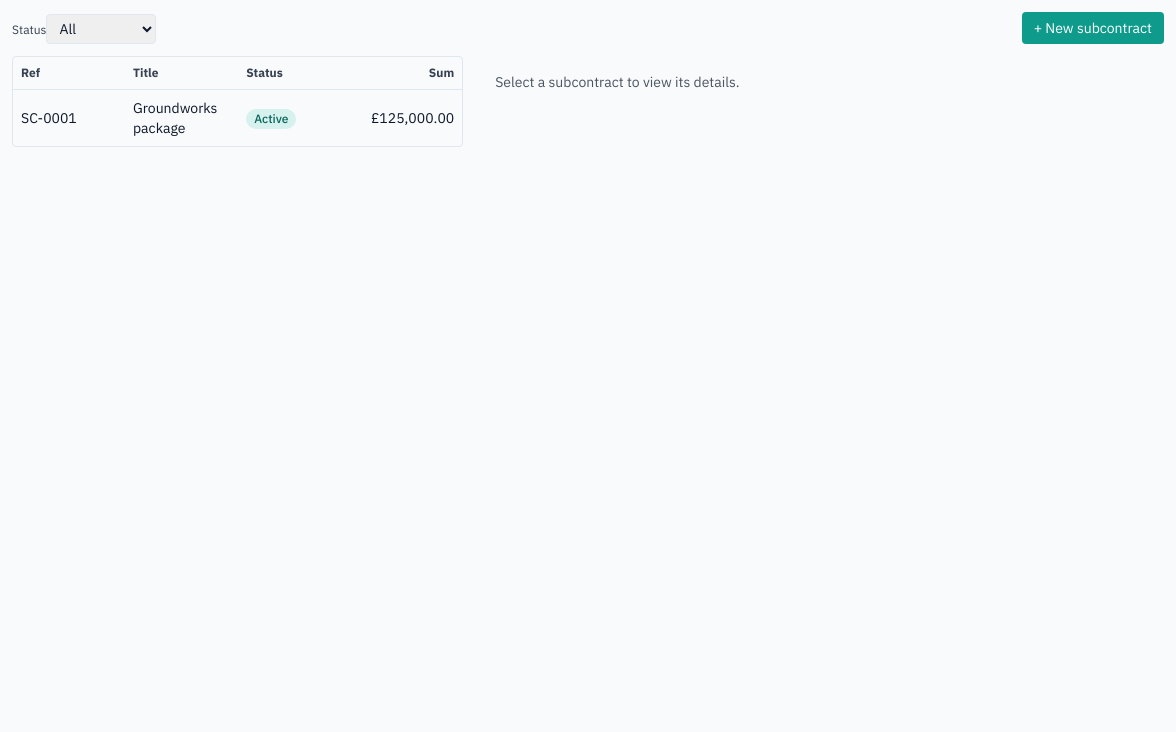
Test: button visibility — perms × status › FLAG 1b — user with subcontracts.edit but NOT .approve still sees Complete on Active
This screenshot has width=1176, height=732.
Click the row with test id "subcontracts-row-s-1" at (49, 118), box left=13, top=90, right=462, bottom=146
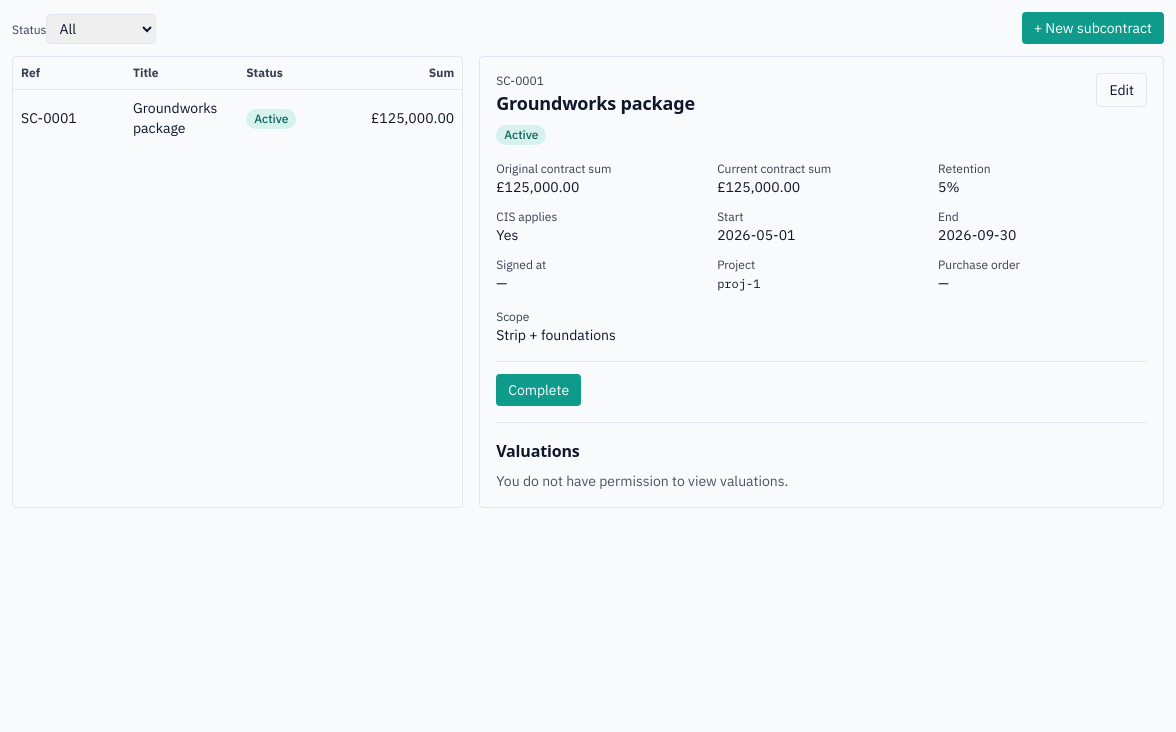
Result: the button with test id "subcontract-actions-complete-btn" is shown at left=496, top=374, right=581, bottom=406
